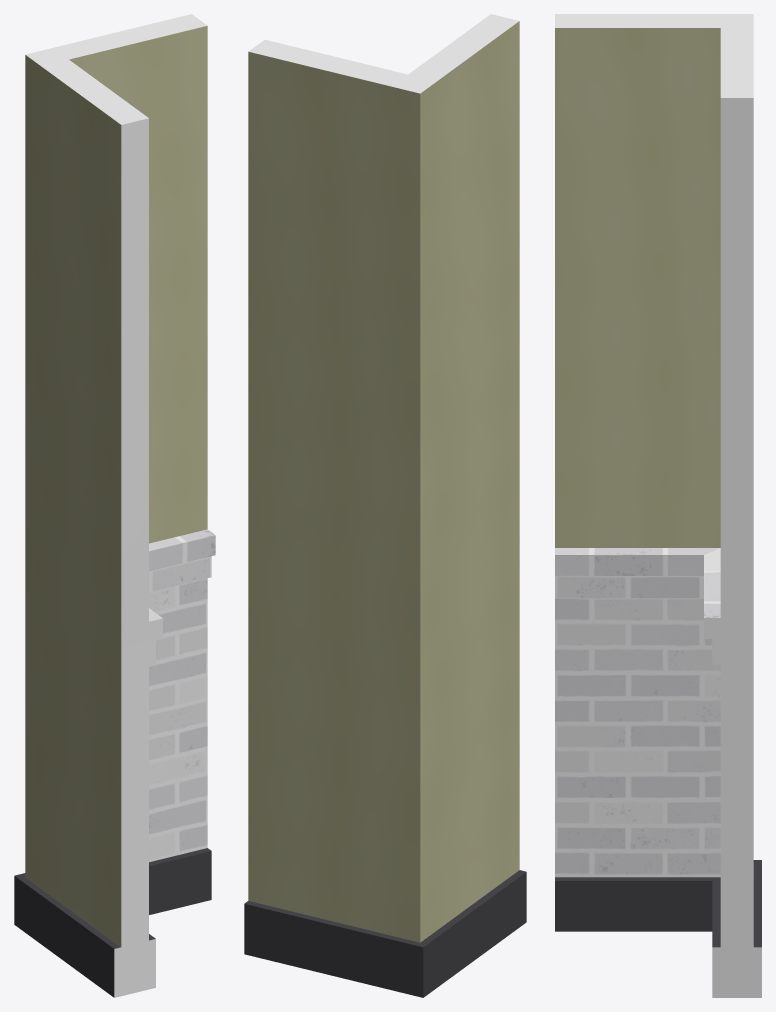
Rendered from SM_Buildings_Wall_CornerIn_01_WallpaperBack.fbx.
3 renders of one model, left to right at view 1: azimuth 30°, elevation 25°; view 2: azimuth 150°, elevation 25°; view 3: azimuth 270°, elevation 25°, orthographic. The views are drawn at different scales.
Visible parts, largest first — view 1: SM_Buildings_Wall_CornerIn_01_WallpaperBack; view 2: SM_Buildings_Wall_CornerIn_01_WallpaperBack; view 3: SM_Buildings_Wall_CornerIn_01_WallpaperBack.
Boxes of the visible parts, <box> form: SM_Buildings_Wall_CornerIn_01_WallpaperBack: <box>14,14,215,997</box>; SM_Buildings_Wall_CornerIn_01_WallpaperBack: <box>244,14,526,997</box>; SM_Buildings_Wall_CornerIn_01_WallpaperBack: <box>555,14,761,997</box>.
Bounding box in the file's own units: 62.5 × 300 × 62.5.
Materials: 1 (1 with a texture image).
